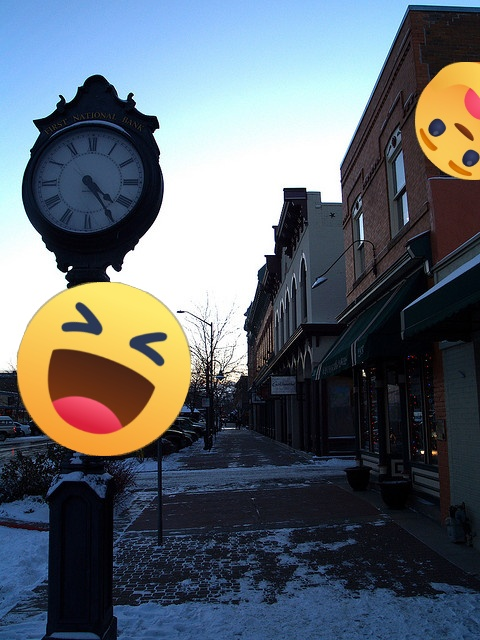care: (415, 62, 480, 180)
haha: (17, 282, 191, 456)
